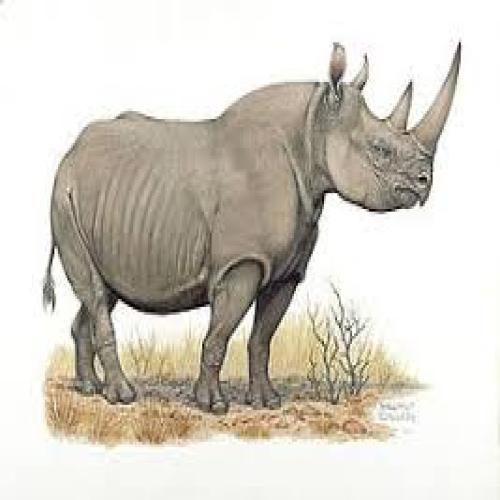rhino-endangered: (42, 43, 462, 411)
